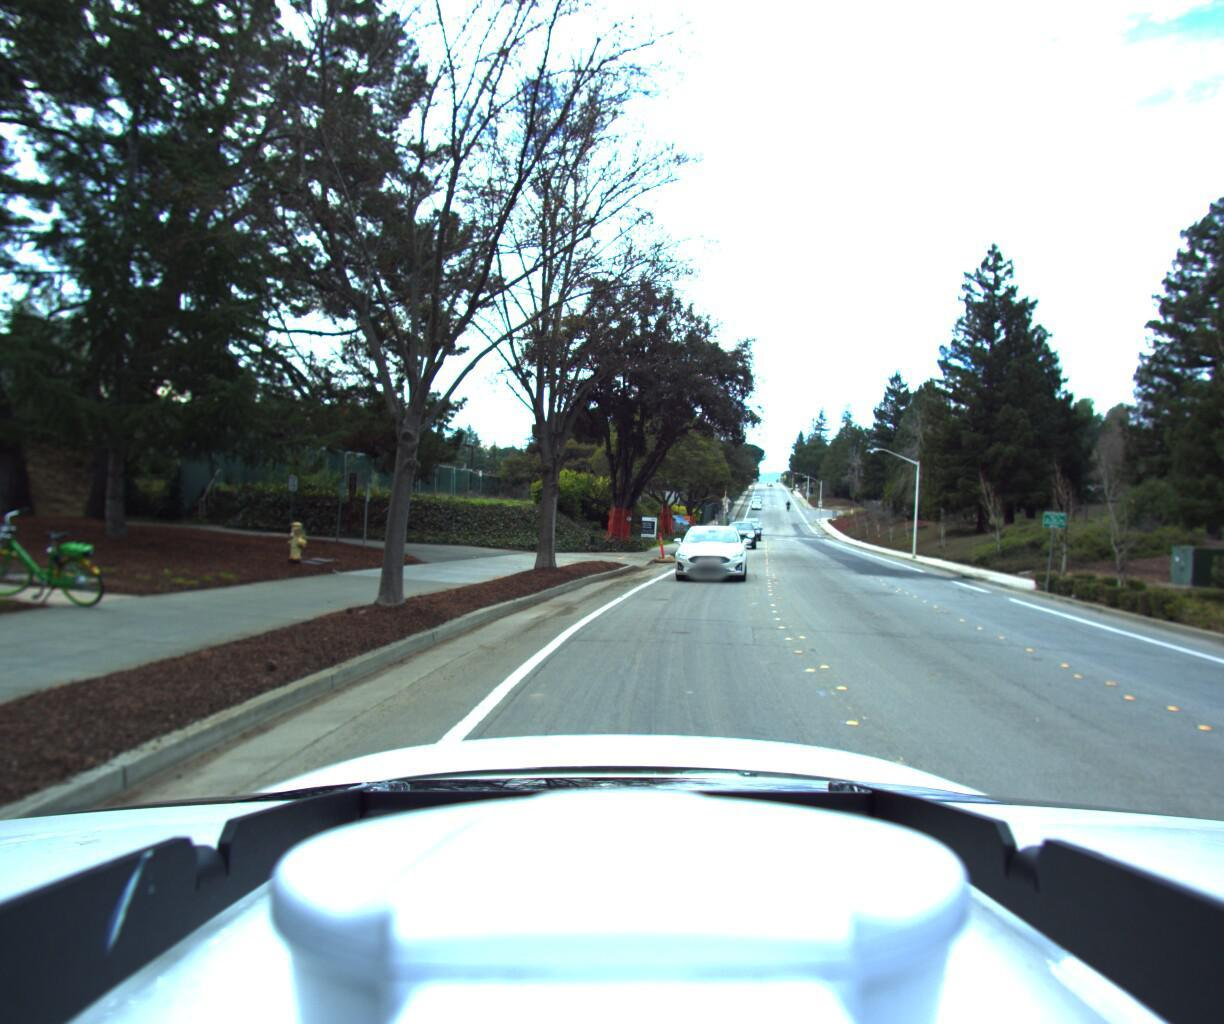bicycle: (0, 501, 122, 612)
car: (665, 518, 747, 587), (719, 517, 758, 547)
